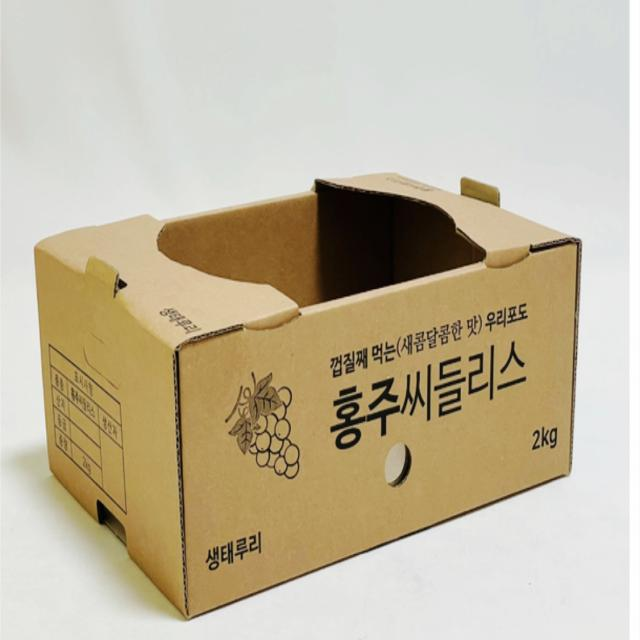biodegradable: (6, 138, 616, 628)
